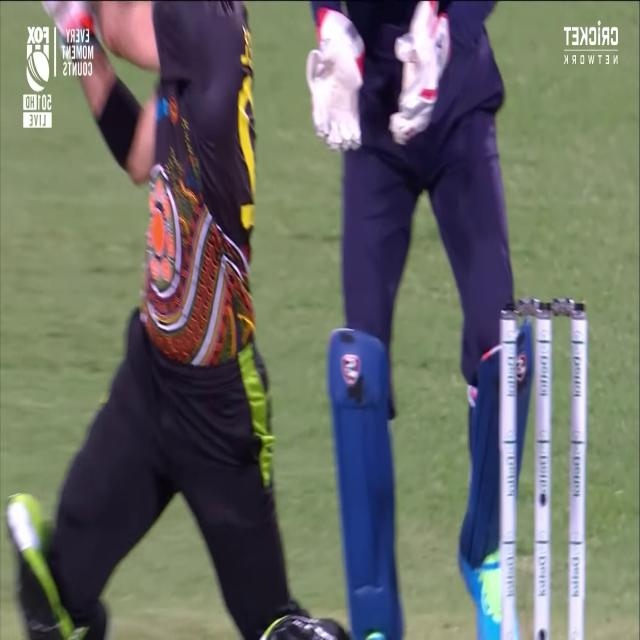stump: (500, 299, 587, 637)
